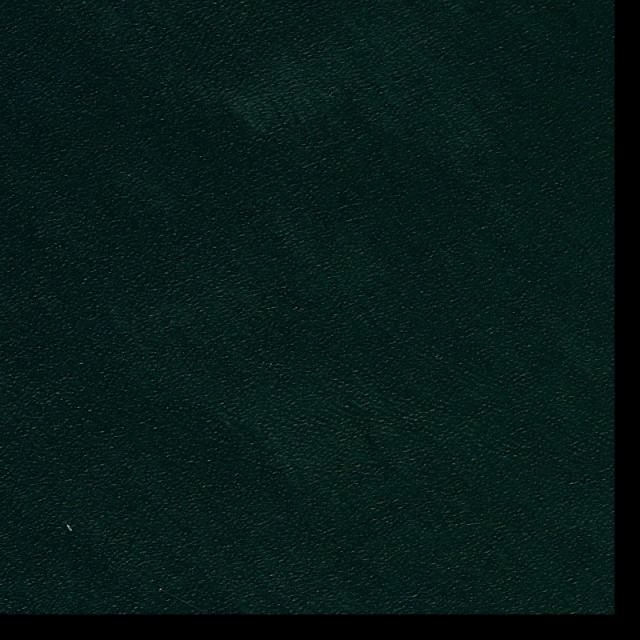ship: (66, 524, 74, 532)
